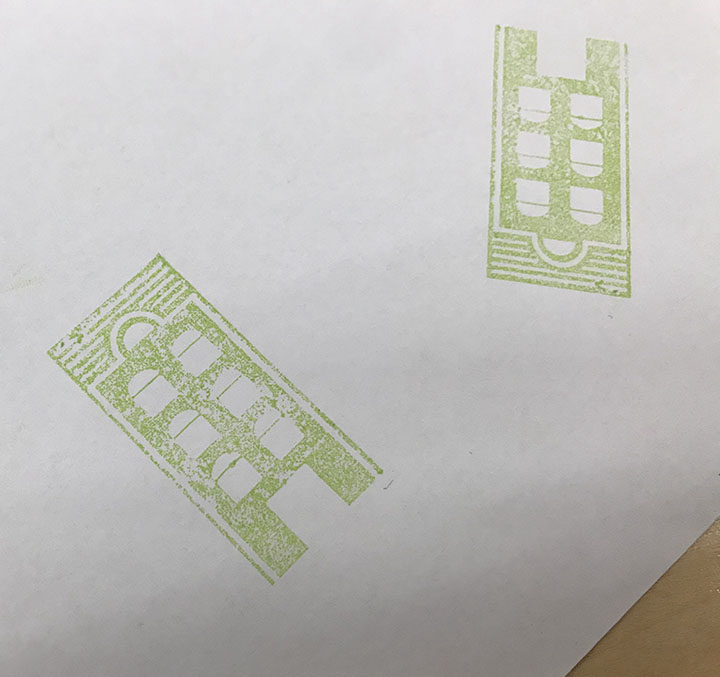build: (27, 219, 415, 587), (463, 6, 646, 318)
